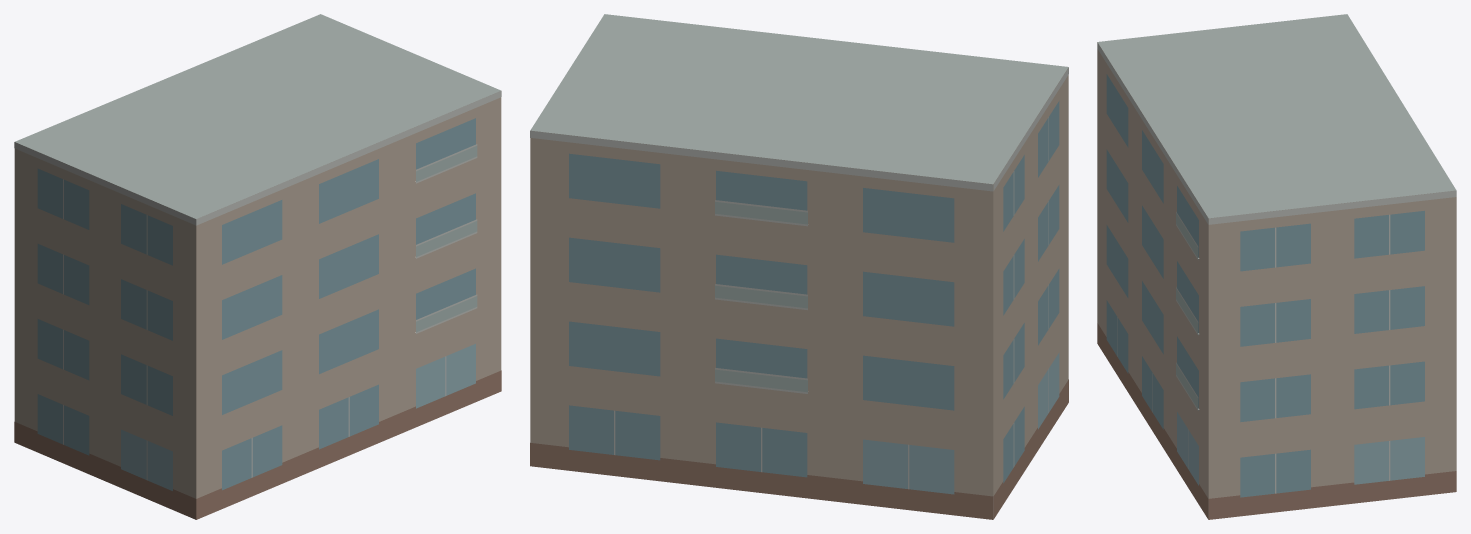
The model's file is survey-upis-32563794.glb.
3 renders of one model, left to right at view 1: azimuth 30°, elevation 25°; view 2: azimuth 150°, elevation 25°; view 3: azimuth 270°, elevation 25°, orthographic. The views are drawn at different scales.
Parts seen in each view (by area): view 1: survey-upis-32563794.tmp; view 2: survey-upis-32563794.tmp; view 3: survey-upis-32563794.tmp.
Boxes of the visible parts, x1,y1,x2,y2 form: survey-upis-32563794.tmp: (14, 14, 501, 519); survey-upis-32563794.tmp: (530, 14, 1068, 519); survey-upis-32563794.tmp: (1097, 14, 1456, 519).
Bounding box in the file's own units: 16.44 × 11.3 × 12.21.
